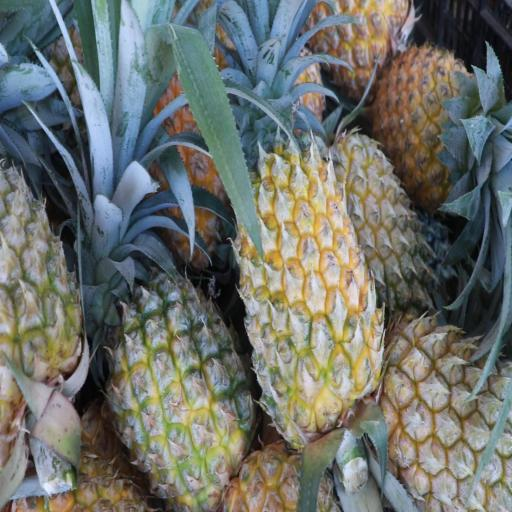Pineapple - v8 v1: (244, 150, 382, 438), (109, 276, 244, 504), (384, 42, 484, 190), (314, 0, 410, 92)
